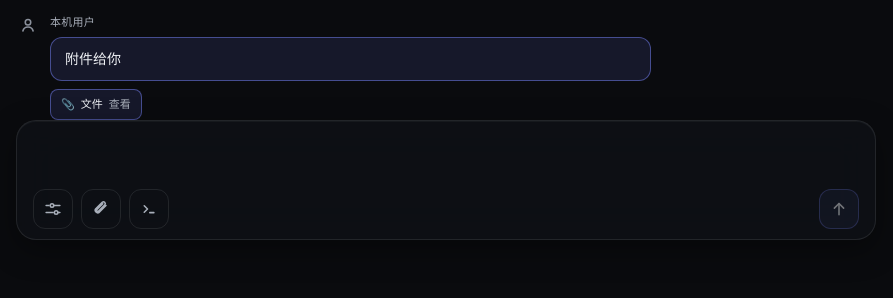
it: 门户里的附件 › 文件附件点开才去取预览，取到后显示文件名与正文
Click the button "📎 文件 查看". click: [96, 104]
box: 50,89 -> 142,120
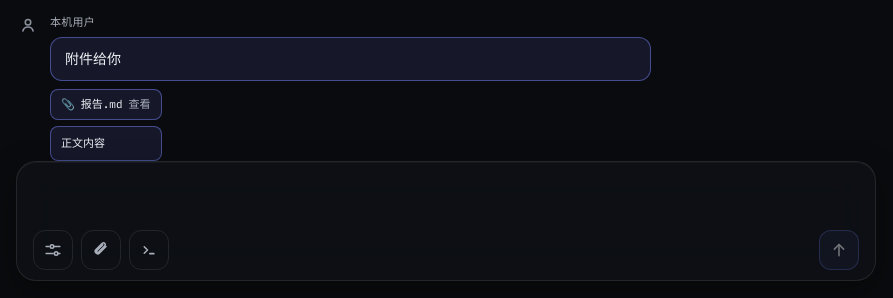
Now the text "正文内容" is shown, box 50,126 -> 162,161
Now the text "报告.md" is shown, box 81,96 -> 122,113
